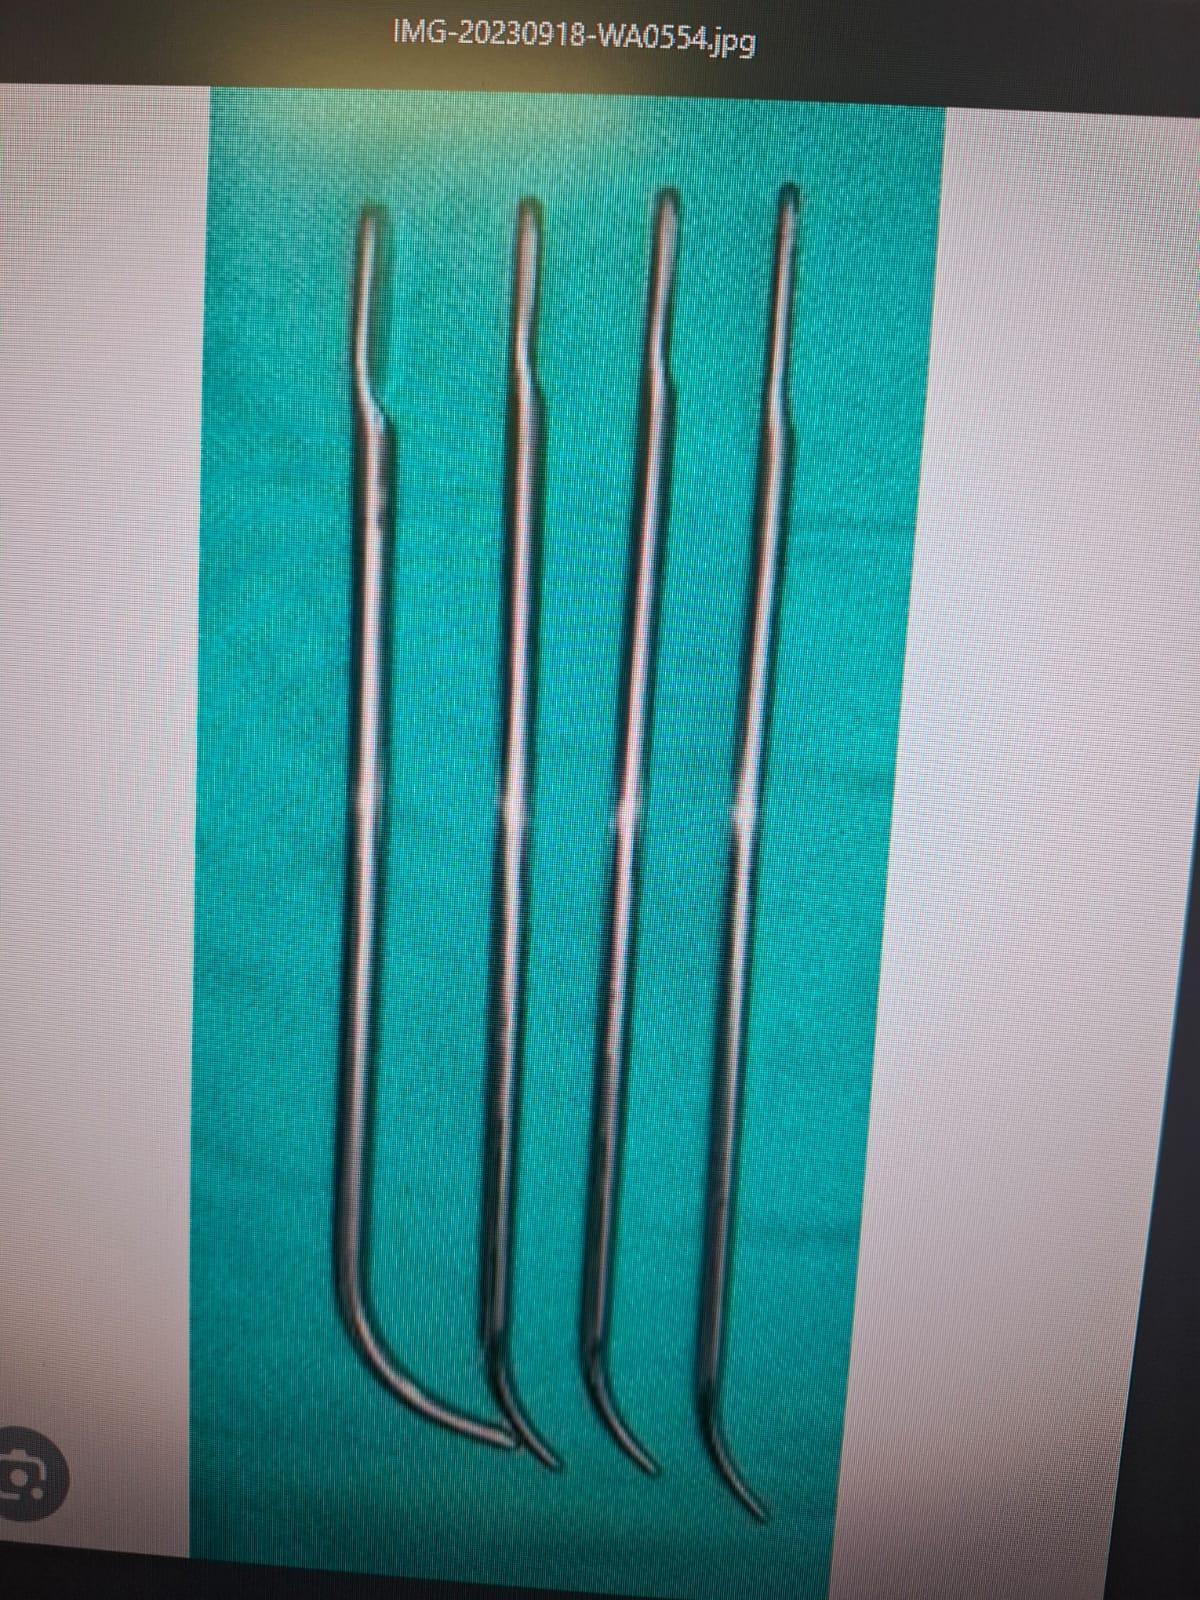Urethral Dilators: (282, 185, 516, 1490), (534, 190, 737, 1495), (420, 193, 610, 1485), (697, 168, 816, 1529)
